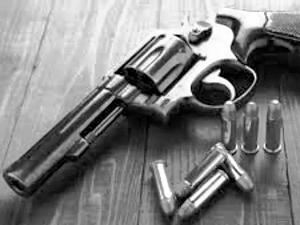handgun: (1, 6, 299, 208)
